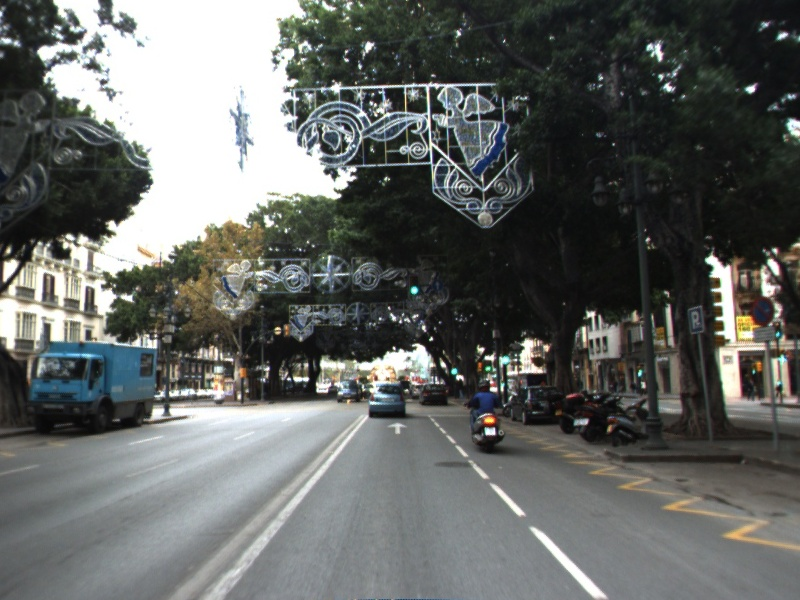STRAIGHT: (385, 420, 409, 436)
